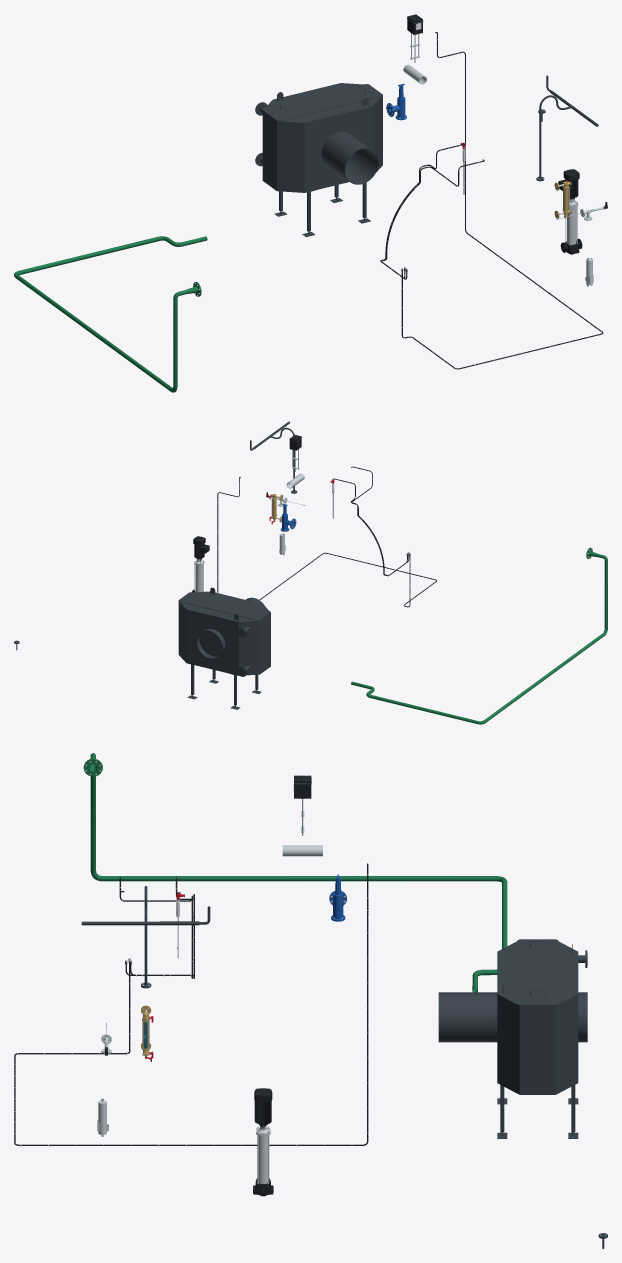
The picture shows the model from 3 angles, top to bottom: view 1: azimuth 30°, elevation 25°; view 2: azimuth 150°, elevation 25°; view 3: azimuth 270°, elevation 25°; orthographic projection. The views are drawn at different scales.
Visible parts, largest first — view 1: EQS2-4000 CAD 3, EQS2-4000 CAD 0, deaerator_feed / green, EQS2-4000 CAD 1, flue_spacer / dark, mod_direct_drive_cable / black, pressure_header / dark; view 2: EQS2-4000 CAD 0, EQS2-4000 CAD 3, deaerator_feed / green, EQS2-4000 CAD 2, mod_direct_drive_cable / black; view 3: EQS2-4000 CAD 3, deaerator_feed / green, flue_spacer / dark, mod_direct_drive_cable / black, EQS2-4000 CAD 0, pressure_header / dark, pump_1 CAD solid 15.
Part boxes in pixels (<box>): EQS2-4000 CAD 3: <box>262,83,382,190</box>; EQS2-4000 CAD 0: <box>274,106,372,237</box>; deaerator_feed / green: <box>14,236,207,392</box>; EQS2-4000 CAD 1: <box>277,121,304,192</box>; flue_spacer / dark: <box>325,134,378,184</box>; mod_direct_drive_cable / black: <box>401,32,603,369</box>; pressure_header / dark: <box>536,75,598,181</box>; EQS2-4000 CAD 0: <box>186,609,261,709</box>; EQS2-4000 CAD 3: <box>178,587,270,674</box>; deaerator_feed / green: <box>351,547,607,724</box>; EQS2-4000 CAD 2: <box>237,620,259,676</box>; mod_direct_drive_cable / black: <box>217,477,436,607</box>; EQS2-4000 CAD 3: <box>497,939,578,1094</box>; deaerator_feed / green: <box>83,753,507,992</box>; flue_spacer / dark: <box>438,992,487,1042</box>; mod_direct_drive_cable / black: <box>14,863,368,1145</box>; EQS2-4000 CAD 0: <box>487,992,587,1138</box>; pressure_header / dark: <box>81,886,210,988</box>; pump_1 CAD solid 15: <box>254,1088,272,1125</box>.
Size of the model in its own units: 8.53 by 3.82 by 6.03.
